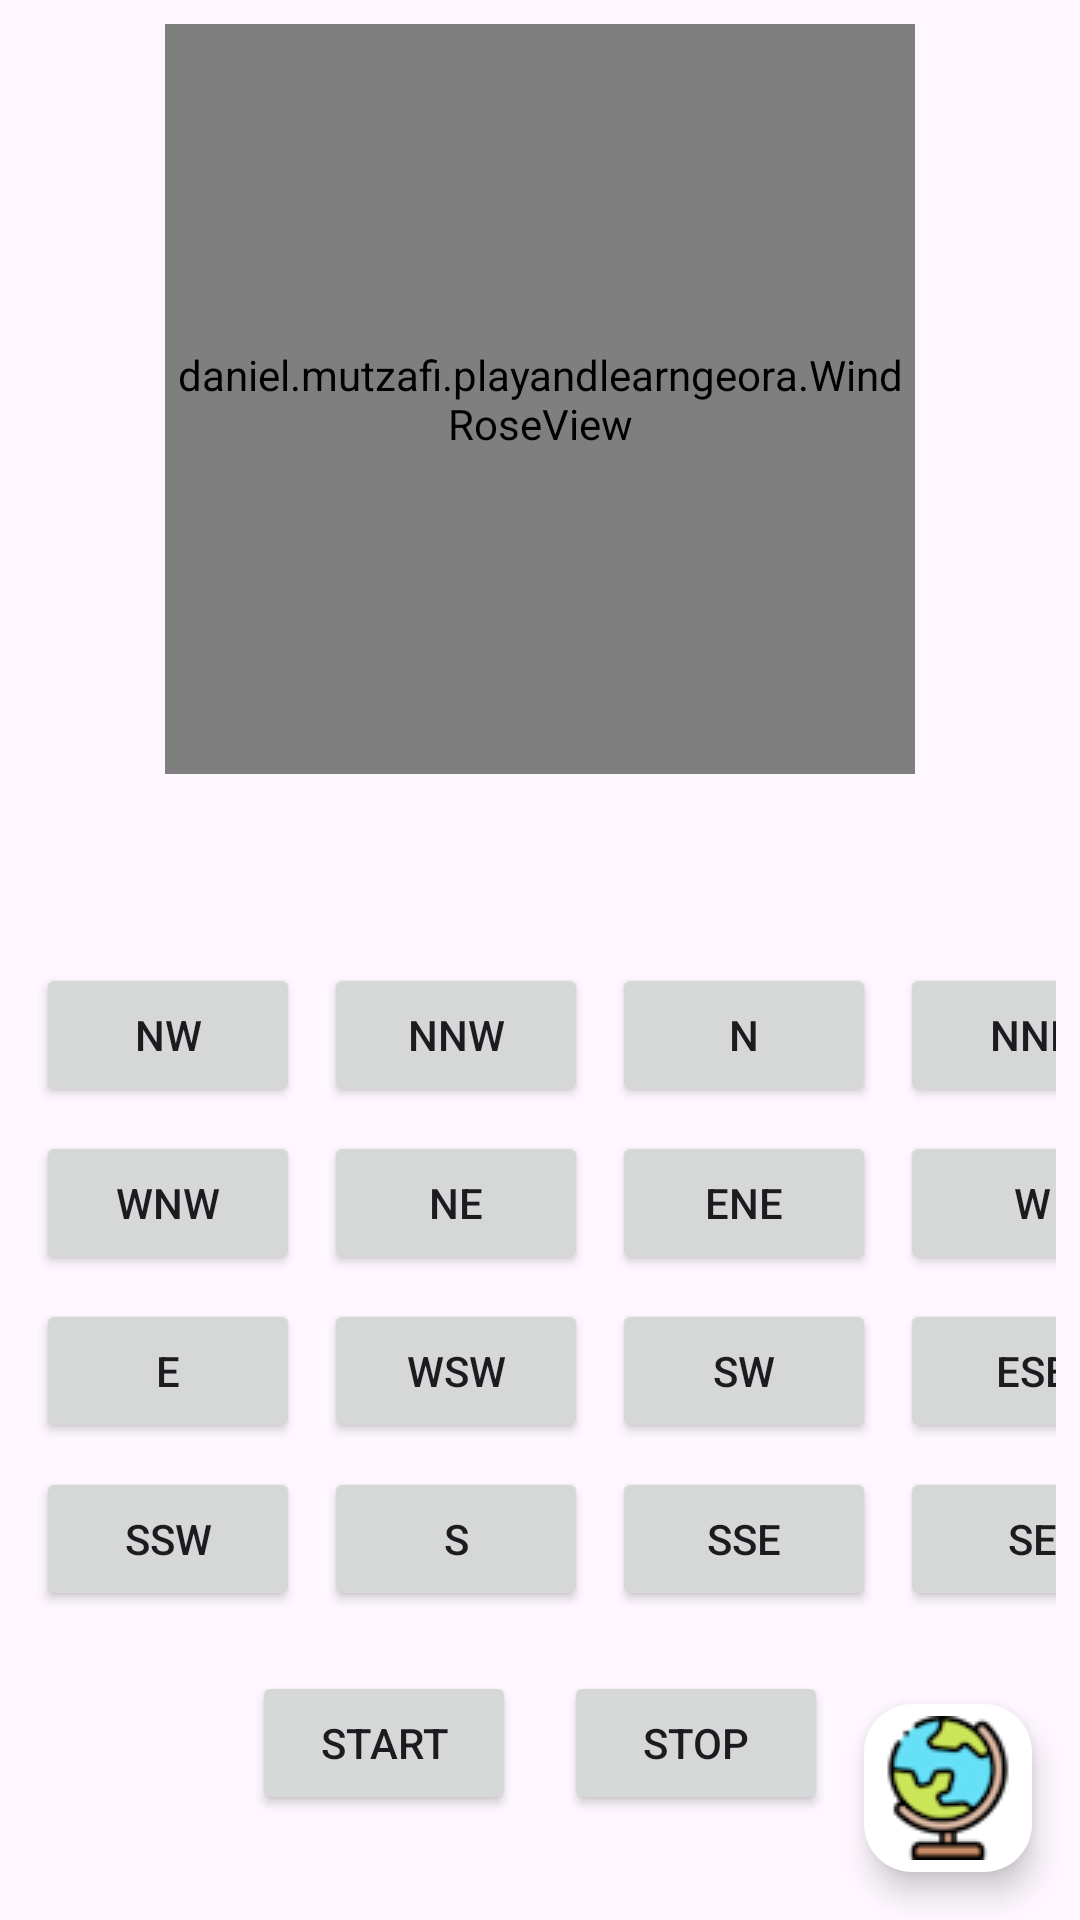

Icons on this 1080*1920 Android screen, each with the point to tap as point (x, y):
globus: point (948, 1788)
